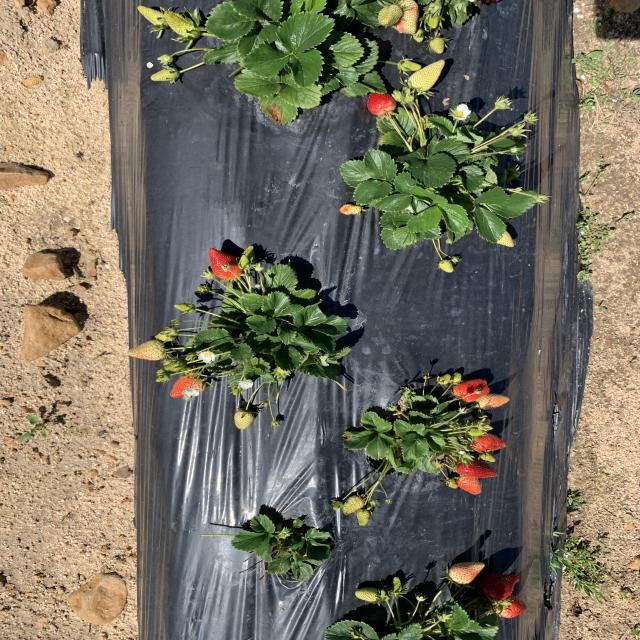unripe: (477, 572, 522, 601), (206, 246, 244, 279), (452, 378, 492, 403), (457, 456, 499, 479), (170, 374, 206, 397), (366, 90, 396, 114), (495, 597, 529, 617), (471, 434, 506, 452), (457, 475, 482, 495)
